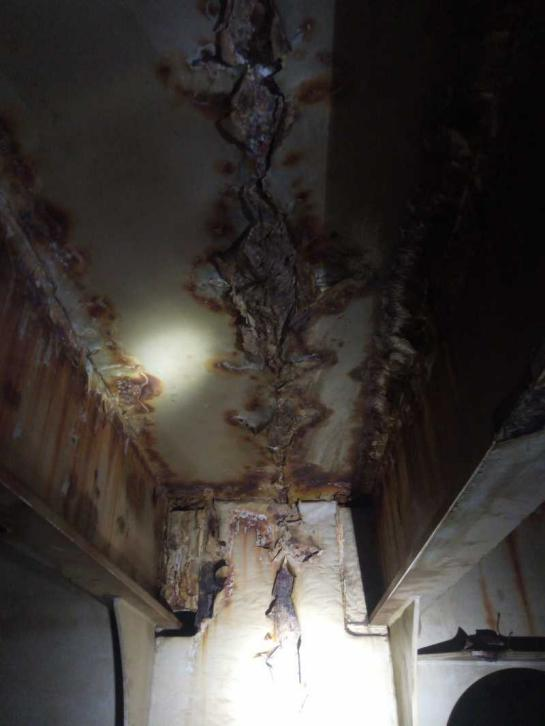corrosion: (186, 167, 388, 501), (171, 0, 350, 184), (8, 327, 144, 542), (229, 512, 342, 678), (56, 252, 168, 419), (135, 513, 241, 634), (1, 105, 82, 246)
